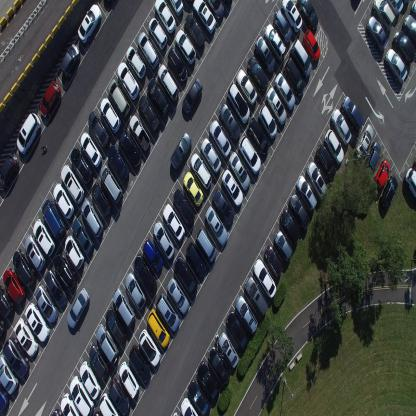car: (2, 336, 30, 378), (32, 282, 58, 324), (17, 112, 41, 156), (226, 82, 250, 126), (155, 291, 180, 333), (41, 198, 66, 240), (24, 302, 50, 342), (112, 284, 136, 327), (77, 2, 102, 43), (146, 306, 170, 348), (99, 162, 123, 204), (60, 164, 84, 206), (146, 76, 170, 118), (13, 317, 38, 357), (69, 375, 94, 415), (134, 252, 157, 295), (66, 286, 89, 329), (196, 361, 219, 404), (174, 255, 198, 296), (128, 341, 152, 382), (96, 321, 120, 362), (44, 266, 68, 307), (156, 62, 180, 103), (118, 126, 141, 168), (204, 206, 228, 246), (166, 275, 190, 315), (80, 198, 104, 238), (32, 218, 56, 258), (235, 294, 258, 335), (238, 134, 261, 175), (253, 258, 276, 299), (245, 276, 268, 317), (208, 345, 231, 386), (228, 150, 250, 192), (172, 186, 194, 228), (226, 310, 248, 352), (108, 78, 130, 120), (79, 359, 101, 401), (288, 192, 310, 234), (137, 30, 159, 72), (138, 326, 161, 366), (221, 168, 244, 208), (2, 267, 26, 305), (340, 95, 364, 133), (116, 62, 140, 100), (263, 23, 287, 61), (384, 47, 408, 84), (219, 102, 241, 142), (129, 113, 151, 153), (153, 220, 175, 260), (105, 304, 127, 344), (138, 94, 160, 134), (70, 145, 92, 185), (305, 161, 327, 201), (290, 38, 312, 78), (283, 57, 305, 97), (162, 203, 185, 241), (53, 252, 76, 290), (79, 130, 102, 168), (106, 144, 129, 182), (12, 249, 35, 287), (107, 377, 130, 415), (235, 68, 258, 106), (247, 117, 270, 155), (118, 359, 139, 400), (212, 186, 234, 225), (209, 119, 231, 158), (88, 110, 110, 149), (330, 107, 352, 146), (274, 72, 296, 111), (174, 29, 197, 66), (192, 0, 217, 34), (125, 270, 146, 310), (354, 122, 375, 162), (266, 85, 287, 125), (72, 215, 94, 253), (99, 96, 121, 134), (24, 234, 46, 272), (170, 132, 192, 170), (0, 352, 19, 396), (366, 14, 388, 52), (184, 12, 206, 50), (190, 152, 212, 189), (182, 170, 204, 207), (40, 81, 62, 118), (393, 29, 415, 66), (186, 380, 209, 415), (371, 0, 396, 32), (200, 136, 221, 174), (218, 330, 239, 368), (53, 182, 74, 220), (182, 78, 203, 116), (296, 174, 317, 212), (315, 142, 336, 180), (254, 36, 275, 74), (142, 237, 164, 273), (195, 226, 216, 263), (167, 47, 188, 84), (247, 56, 268, 92), (154, 0, 176, 34), (281, 0, 303, 34), (186, 241, 206, 278), (363, 139, 381, 180), (91, 182, 112, 217), (380, 174, 399, 212), (65, 233, 85, 269), (324, 128, 344, 164), (272, 9, 292, 45), (147, 17, 168, 51), (89, 344, 108, 381), (60, 43, 80, 78), (280, 209, 300, 244), (126, 45, 146, 80), (258, 104, 278, 139), (0, 153, 18, 191), (296, 0, 318, 31), (273, 228, 293, 262), (264, 244, 283, 278), (302, 28, 320, 63), (98, 391, 120, 416), (0, 284, 15, 319), (60, 393, 82, 415), (374, 160, 390, 190), (404, 13, 416, 46), (206, 0, 225, 20), (405, 166, 415, 200), (180, 397, 198, 415), (386, 0, 404, 16), (167, 0, 184, 16), (0, 382, 9, 412), (0, 316, 7, 339), (410, 0, 416, 20), (51, 408, 63, 415), (93, 410, 101, 416), (172, 411, 180, 415)
